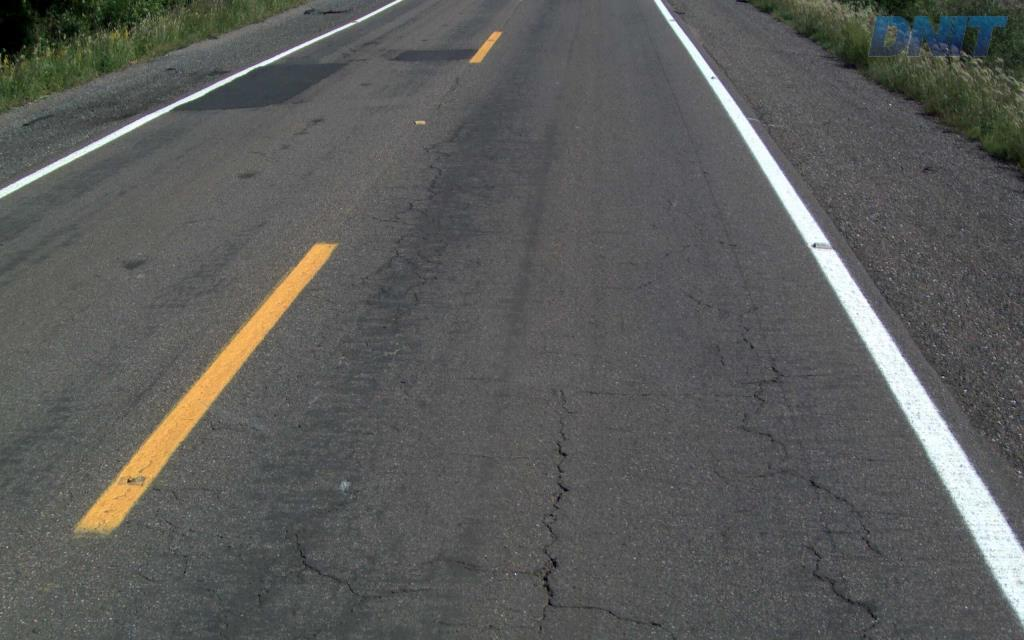crack: (806, 546, 880, 629)
